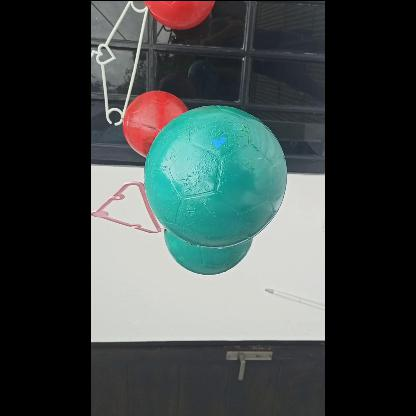green_ball: (144, 100, 286, 244)
